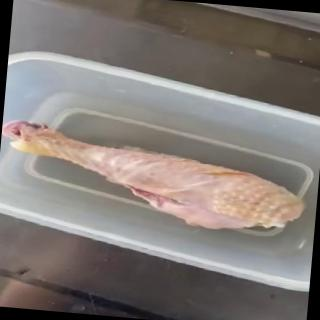Ayam: (1, 118, 312, 238)
